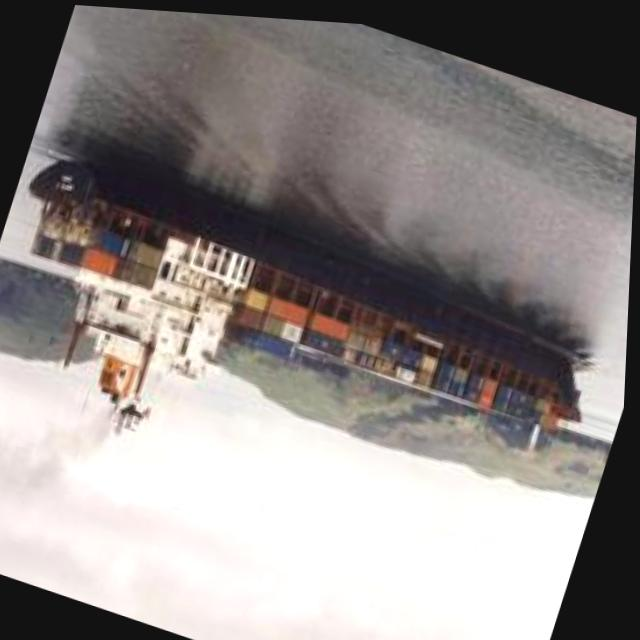ship2: (28, 158, 586, 443)
